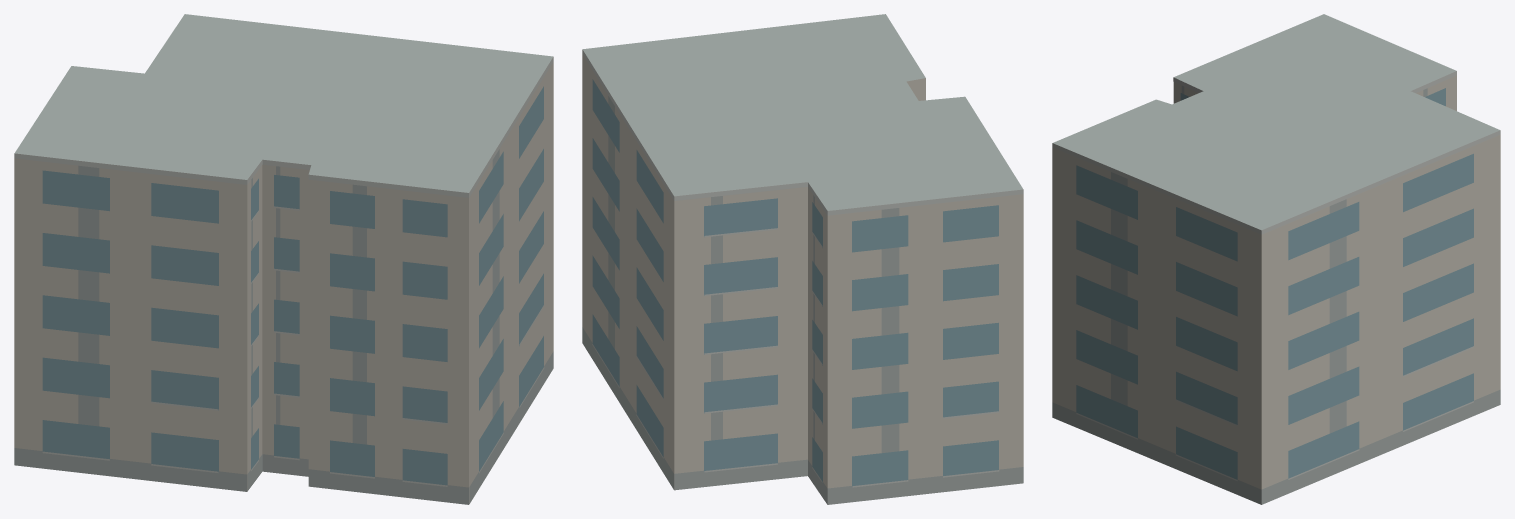
File: survey-upis-32796354.glb
The picture shows the model from 3 angles, left to right: view 1: azimuth 30°, elevation 25°; view 2: azimuth 150°, elevation 25°; view 3: azimuth 270°, elevation 25°; orthographic projection. The views are drawn at different scales.
Parts seen in each view (by area): view 1: survey-upis-32796354.tmp; view 2: survey-upis-32796354.tmp; view 3: survey-upis-32796354.tmp.
Part boxes in pixels (x1=…): survey-upis-32796354.tmp: x1=14, y1=14, x2=553, y2=504; survey-upis-32796354.tmp: x1=582, y1=14, x2=1023, y2=504; survey-upis-32796354.tmp: x1=1052, y1=14, x2=1500, y2=504.
Bounding box in the file's own units: 25.78 × 15.25 × 22.56.
